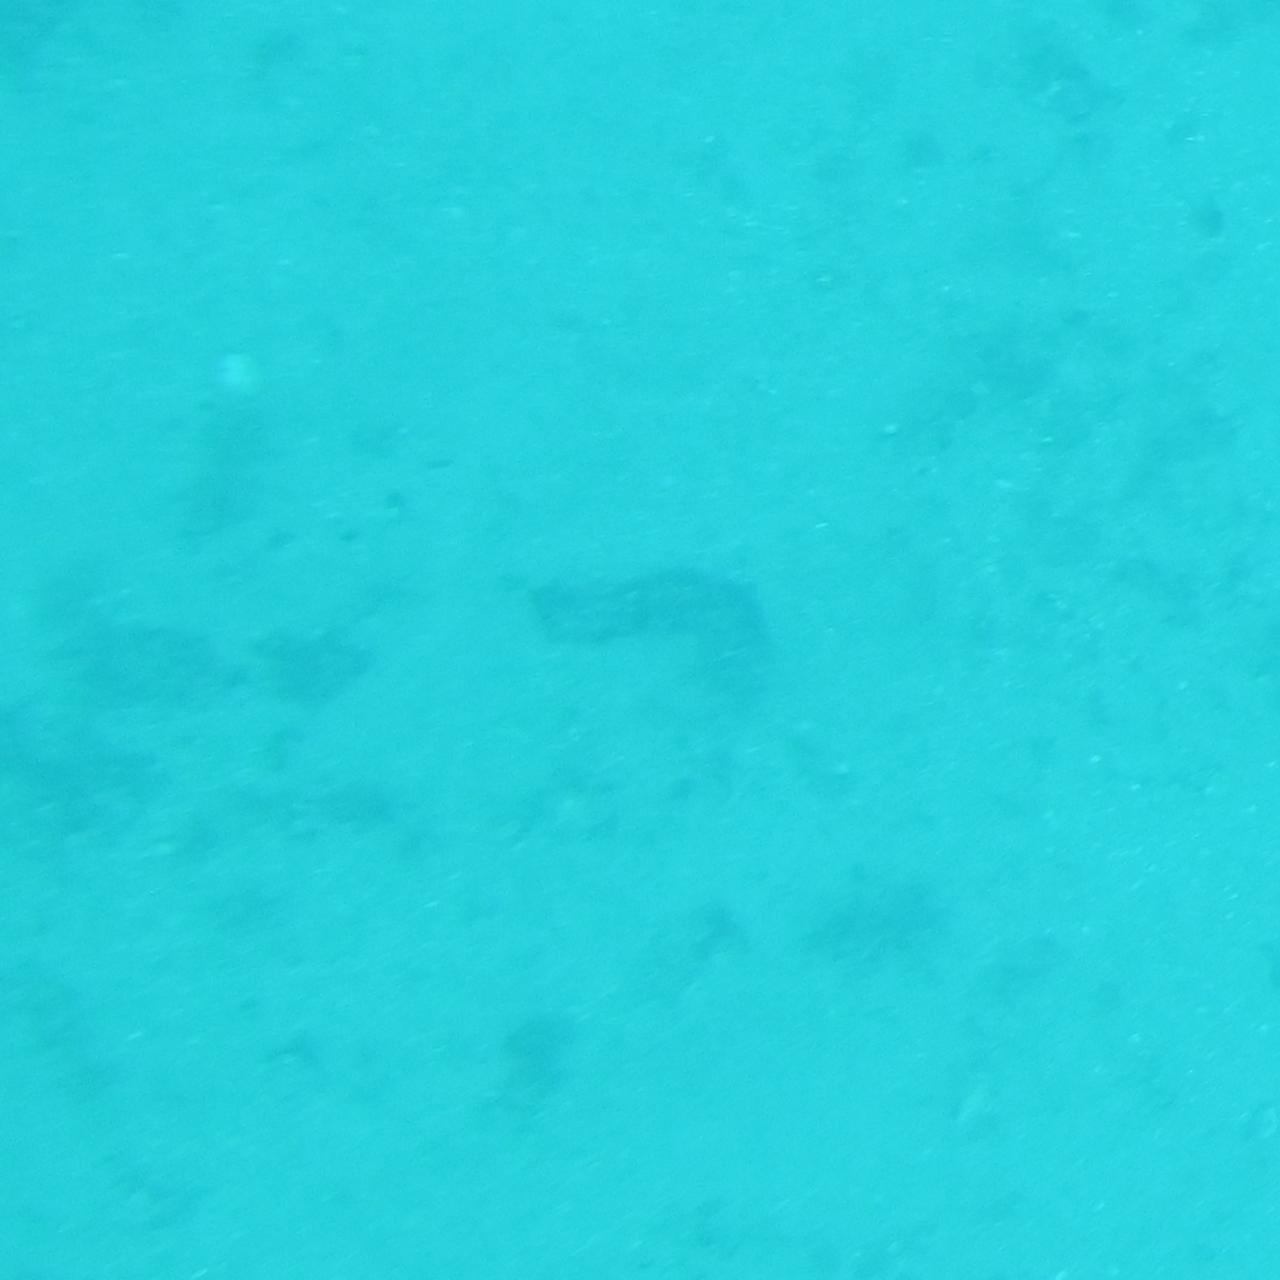Holothuria tubulosa: (515, 557, 765, 723)
